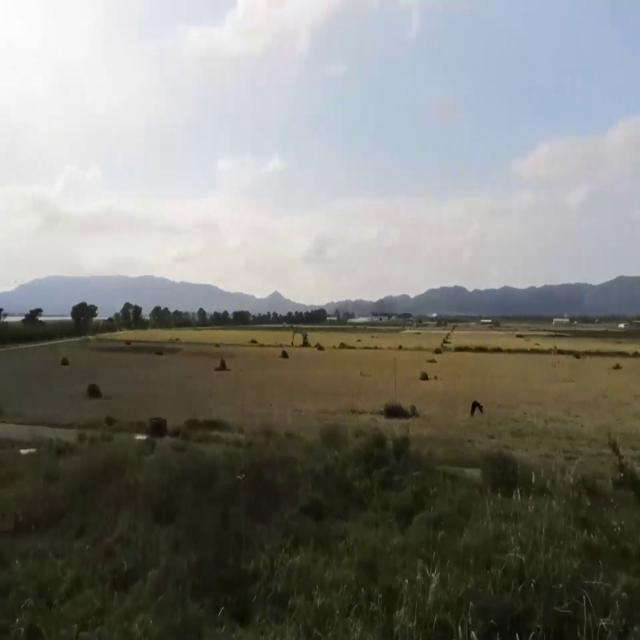bird: (470, 390, 484, 430)
